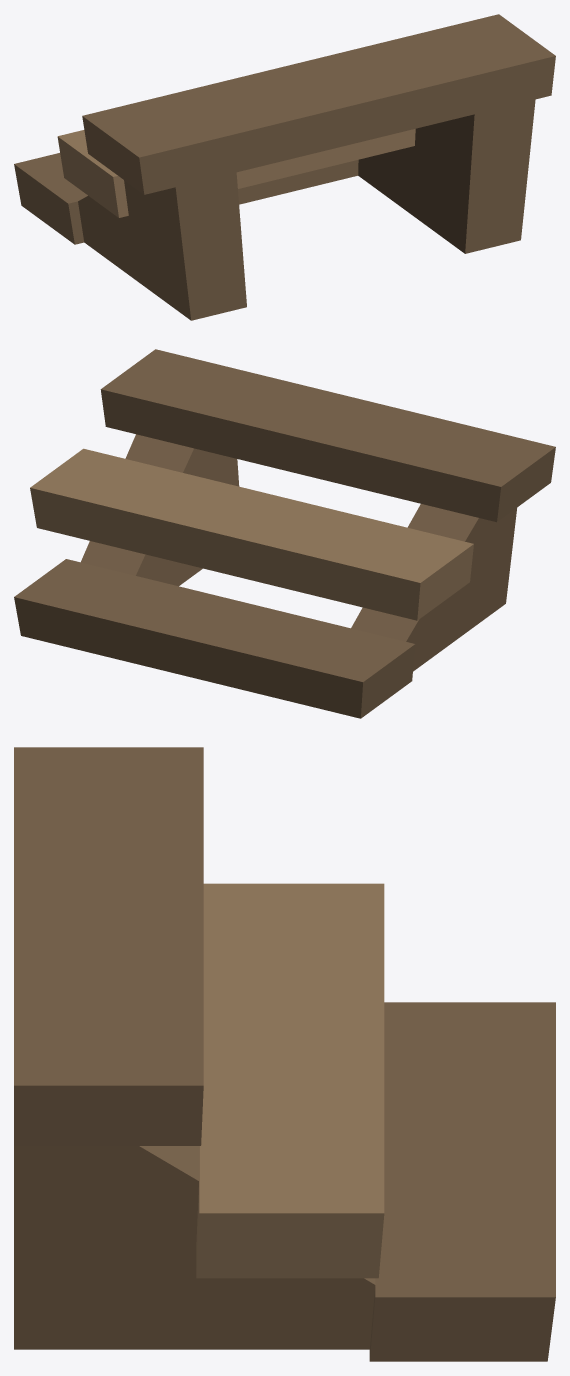
The model's file is SM_Prop_Stairs_Wood_01.glb.
3 renders of one model, top to bottom at view 1: azimuth 30°, elevation 25°; view 2: azimuth 150°, elevation 25°; view 3: azimuth 270°, elevation 25°, orthographic. The views are drawn at different scales.
Parts seen in each view (by area): view 1: SM_Prop_Stairs_Wood_01; view 2: SM_Prop_Stairs_Wood_01; view 3: SM_Prop_Stairs_Wood_01.
Part boxes in pixels (x1,y1,x2,y2): SM_Prop_Stairs_Wood_01: (14, 14, 555, 320); SM_Prop_Stairs_Wood_01: (14, 349, 555, 718); SM_Prop_Stairs_Wood_01: (14, 747, 555, 1361).
Bounding box in the file's own units: 0.5784 × 0.2229 × 0.3744.
1 material, 1 textured.
